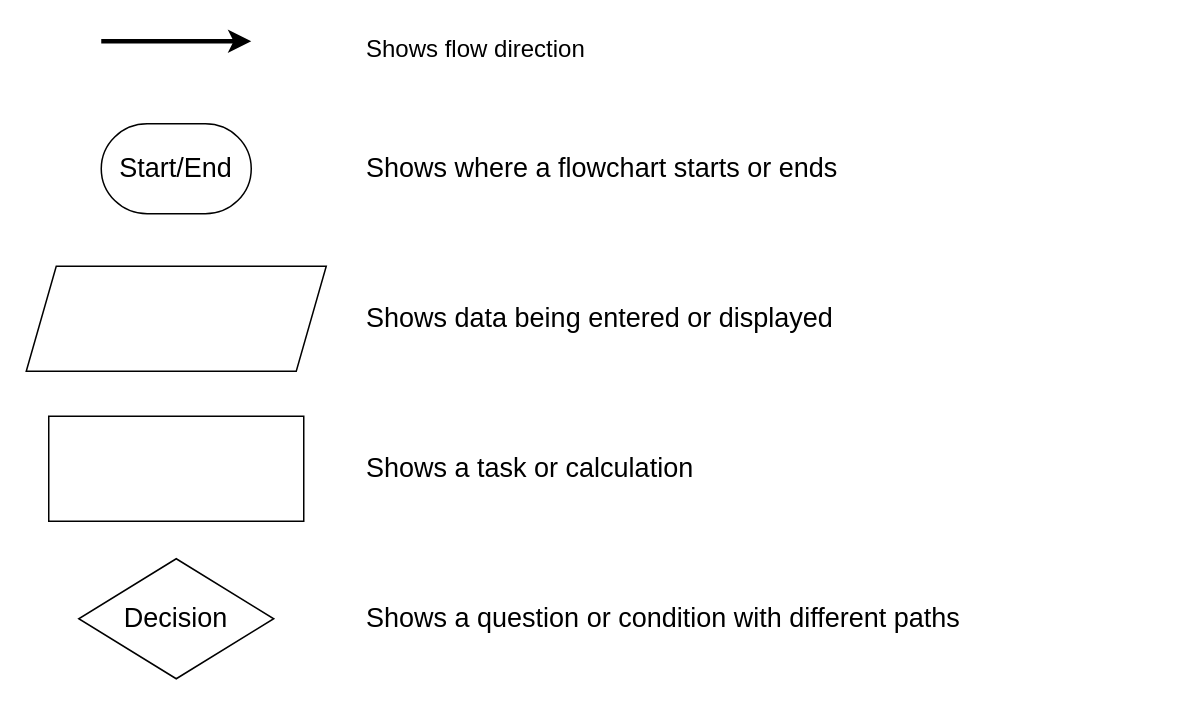
Some shapes in this 1200 by 705 pixel diagram are drawn without their labels. Each missing label, with the centre of its shape:
"Input / Output" belongs at pixel 175 318.
"Process" belongs at pixel 175 468.
